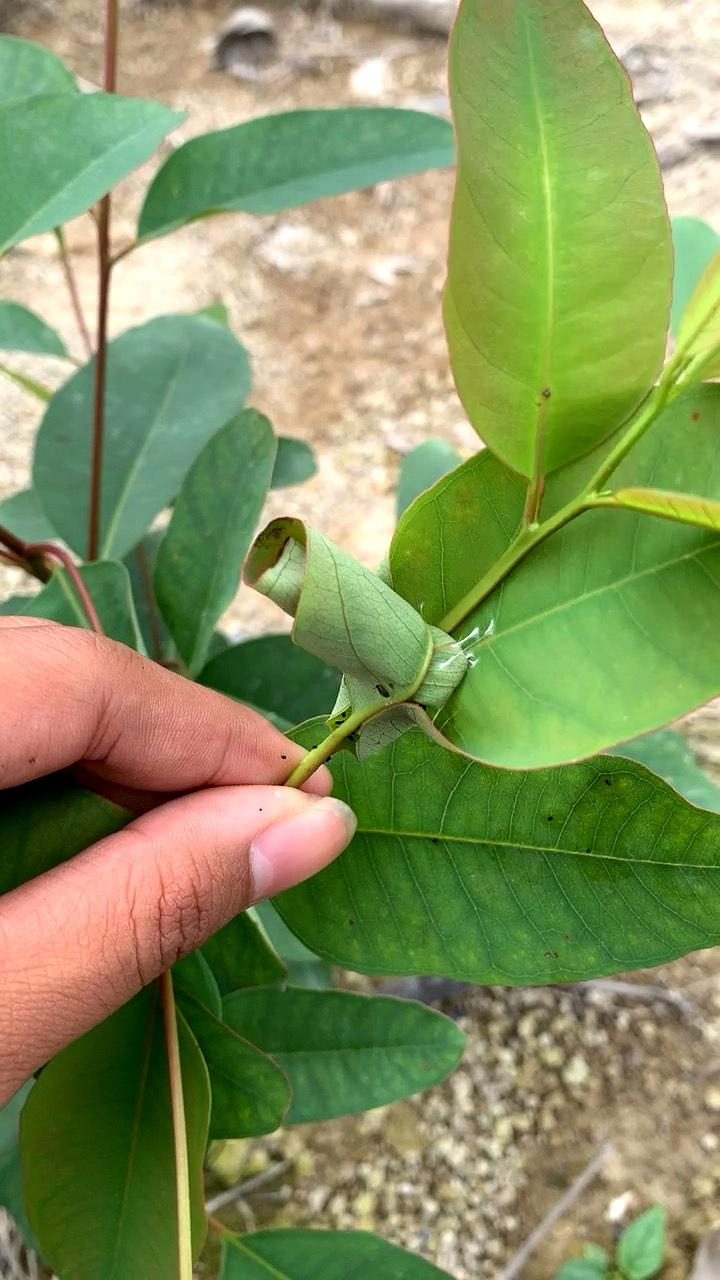Leaf Roller - Leaf: (228, 493, 491, 748)
